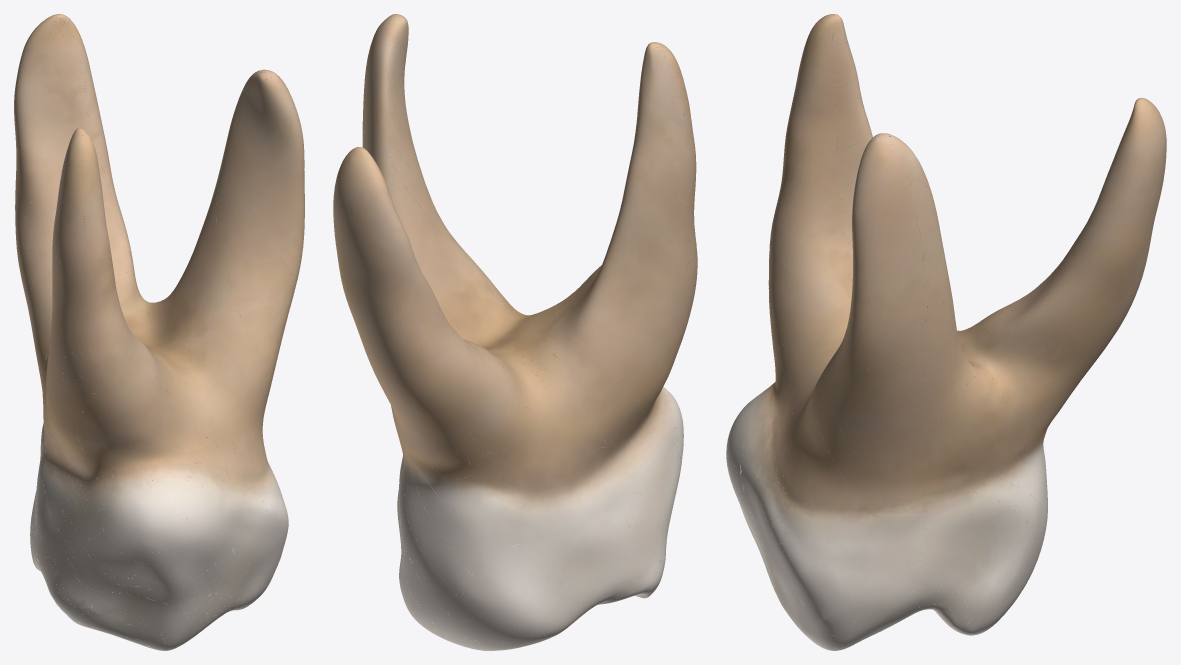
3 renders of one model, left to right at view 1: azimuth 30°, elevation 25°; view 2: azimuth 150°, elevation 25°; view 3: azimuth 270°, elevation 25°, orthographic. The views are drawn at different scales.
Visible parts, largest first — view 1: diente-64 (×6); view 2: diente-64 (×6); view 3: diente-64 (×6).
Boxes of the visible parts, x1,y1,x2,y2 form: diente-64 (×6): (14, 14, 304, 650); diente-64 (×6): (333, 14, 697, 650); diente-64 (×6): (726, 14, 1166, 650).
Size of the model in its own units: 0.00807 by 0.0152 by 0.0108.
Materials: 1 (1 with a texture image).
